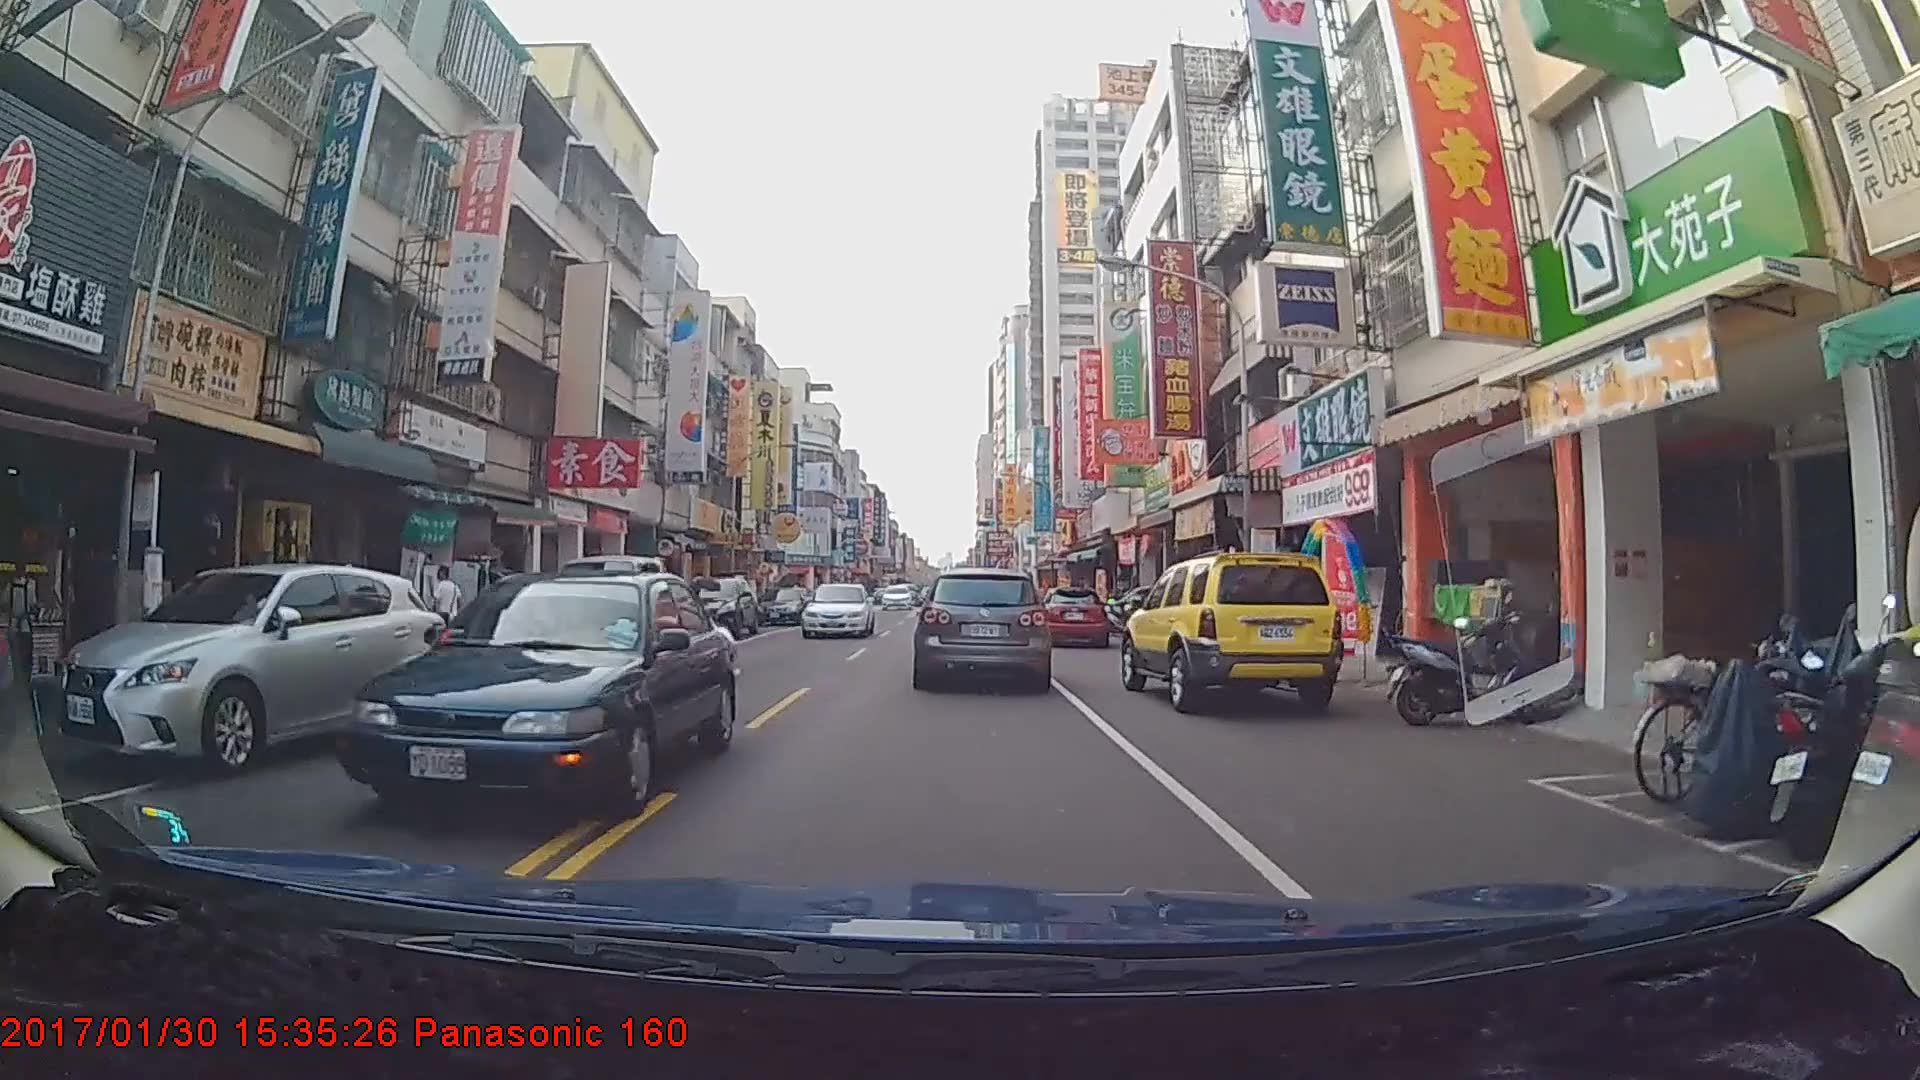vehicle: (331, 564, 738, 820), (53, 560, 446, 778), (1120, 545, 1344, 712), (916, 564, 1050, 690), (667, 576, 757, 638), (1034, 585, 1109, 646), (799, 579, 876, 637), (756, 585, 814, 626), (881, 585, 913, 611)
